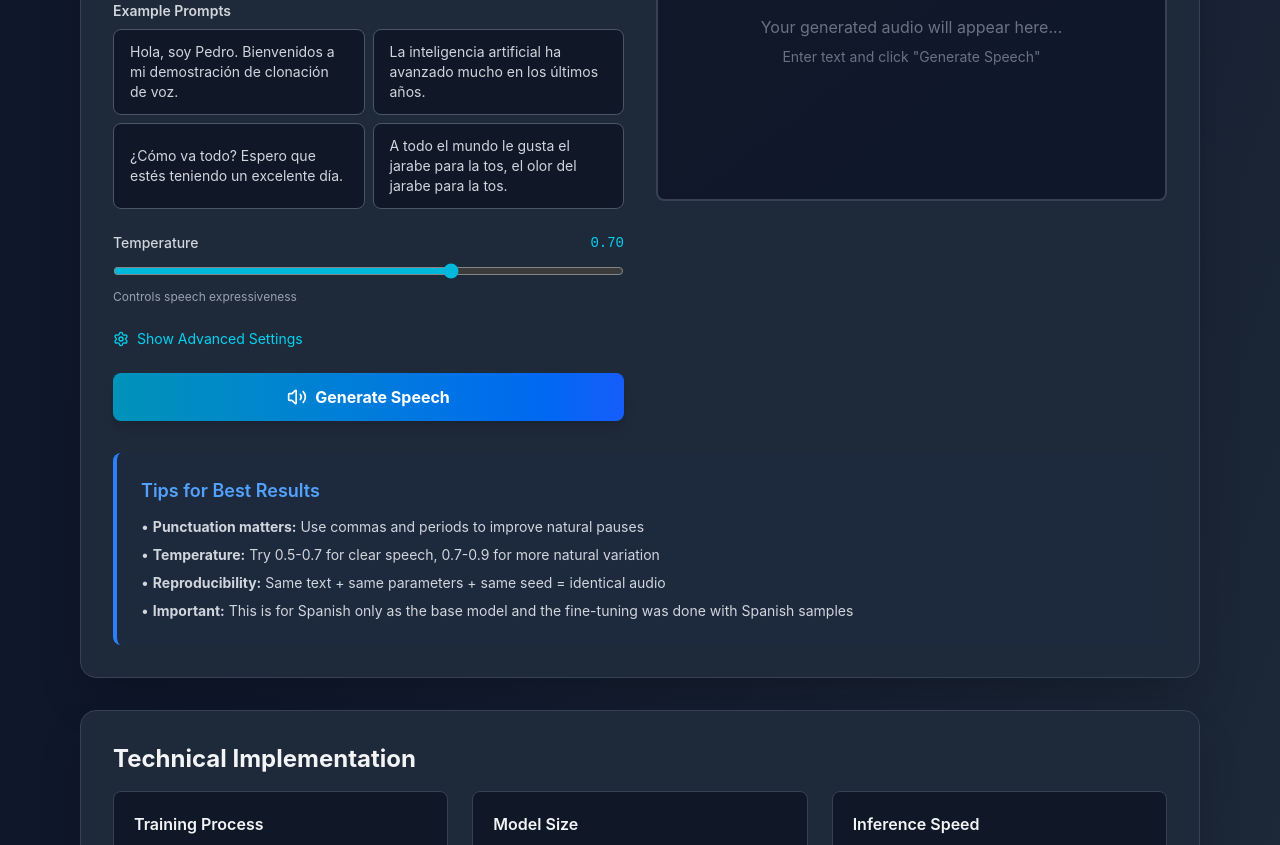
Scenario: App › shows an error when the model returns no audio
(page scrolled)
Step 1. Click the button "Generate Speech" → (368,396), box top-left (113, 372), bottom-right (624, 420)
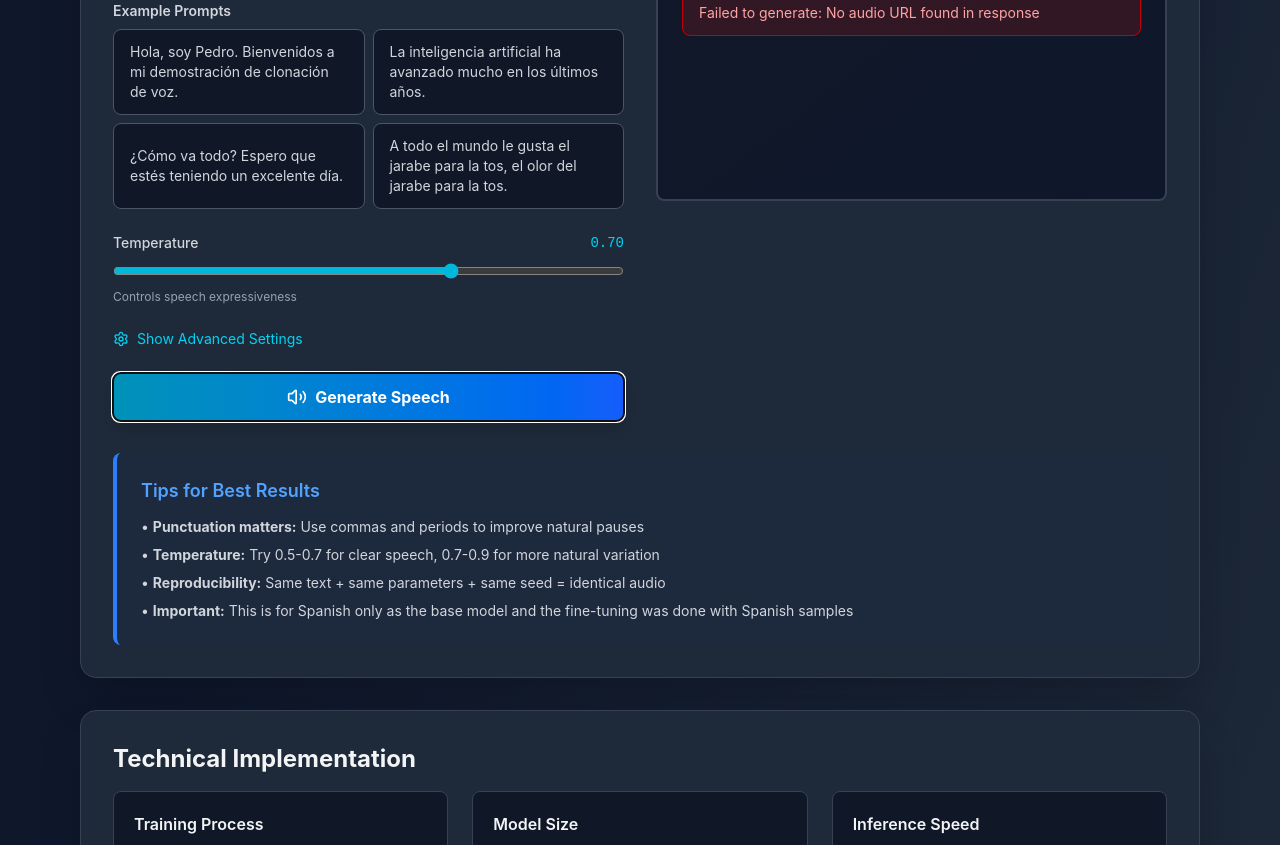
Now the text "Failed to generate: No audio URL found in response" is shown, box top-left (699, 4), bottom-right (1040, 20)
